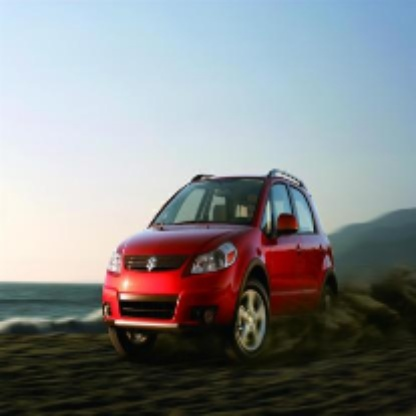Vehicle: (98, 167, 340, 368)
